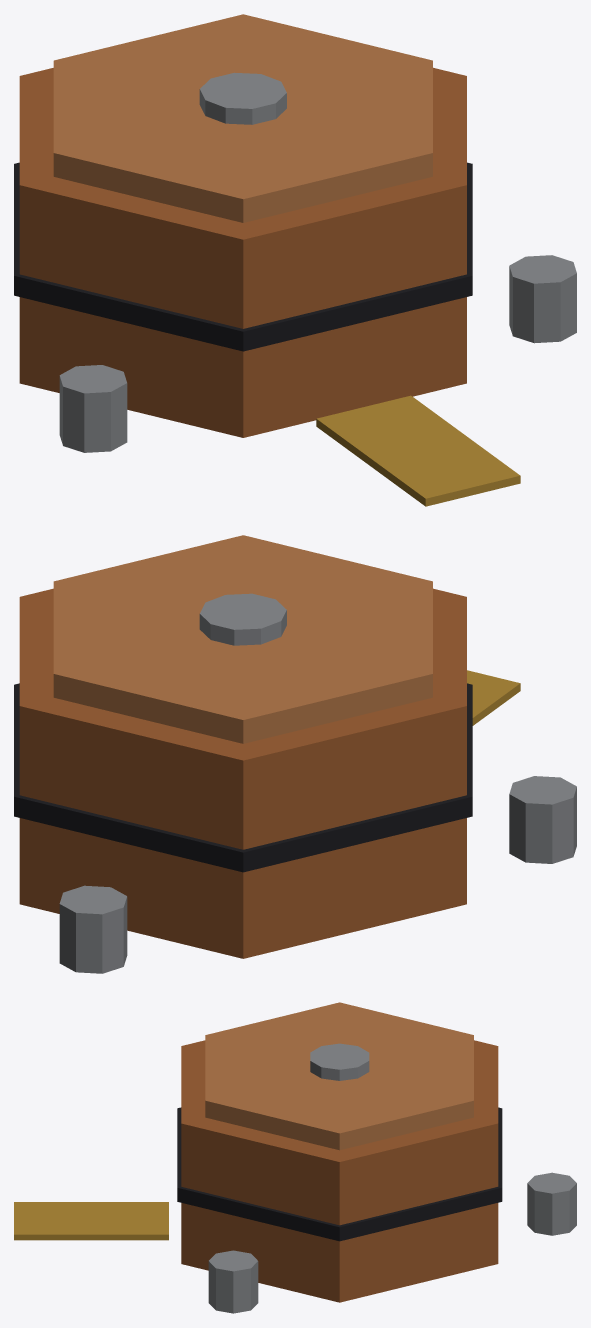
Rendered from seis.glb.
3 renders of one model, top to bottom at view 1: azimuth 30°, elevation 25°; view 2: azimuth 150°, elevation 25°; view 3: azimuth 270°, elevation 25°, orthographic. The views are drawn at different scales.
Parts seen in each view (by area): view 1: cover-seis; view 2: cover-seis; view 3: cover-seis.
Part boxes in pixels (x1=…): cover-seis: x1=14, y1=14, x2=576, y2=506; cover-seis: x1=14, y1=535, x2=576, y2=973; cover-seis: x1=14, y1=1002, x2=576, y2=1313.
Bounding box in the file's own units: 0.2693 × 0.12 × 0.363.
